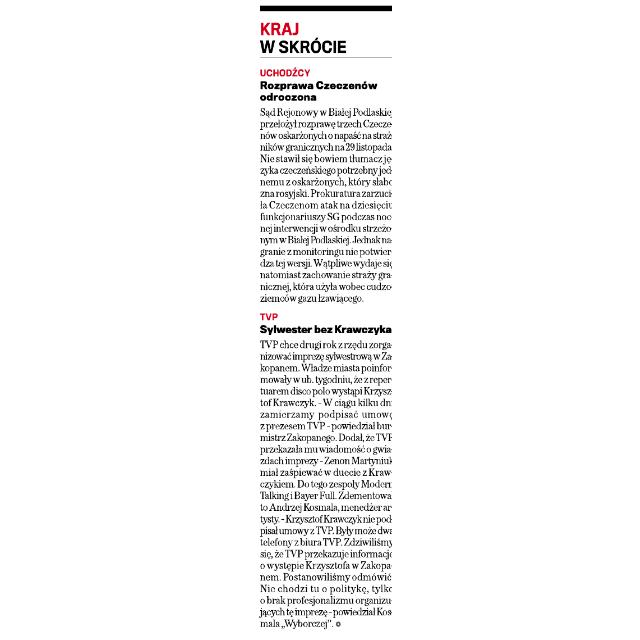body: (254, 65, 392, 633)
title: (254, 16, 356, 56)
